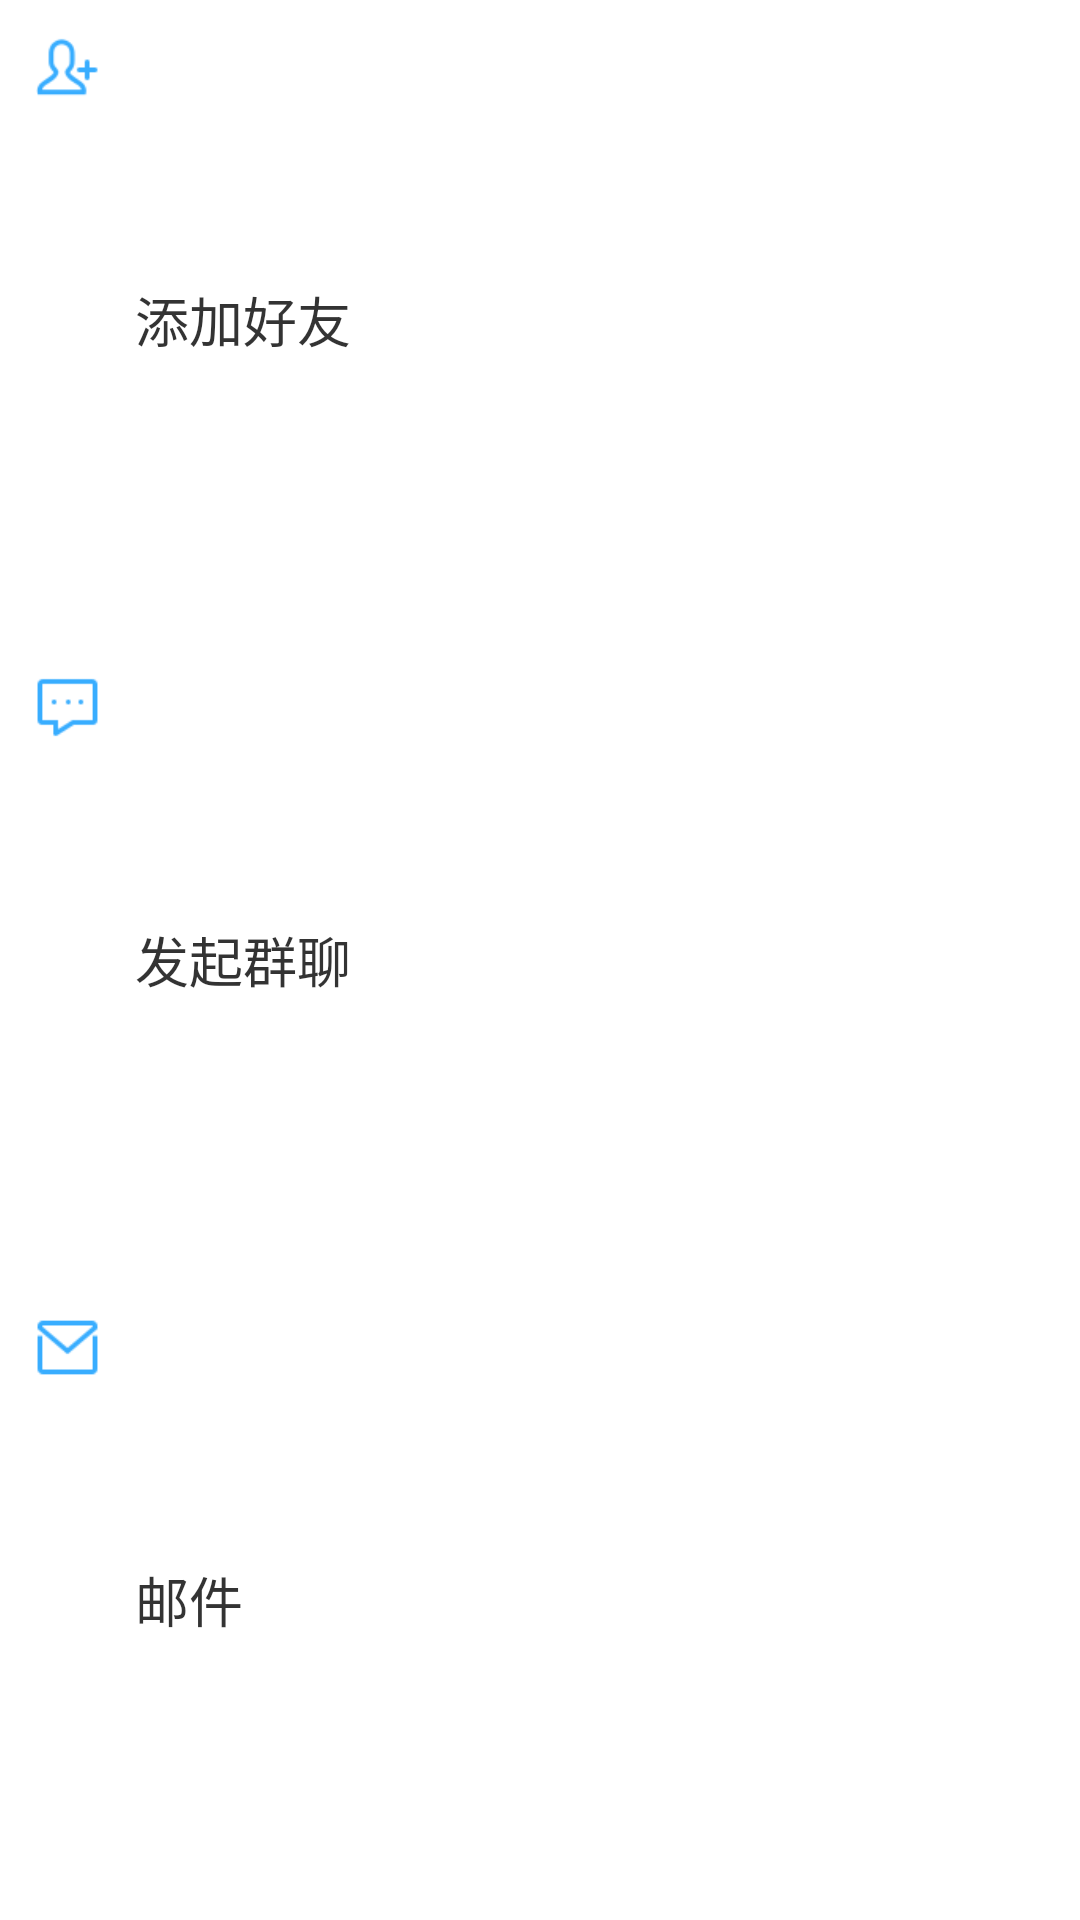

Icons on this 1080×1920 Android screen, each with its box as bbox=(x1, y1, x2, y2):
actbar more menu mail: bbox=(37, 1320, 98, 1375)
